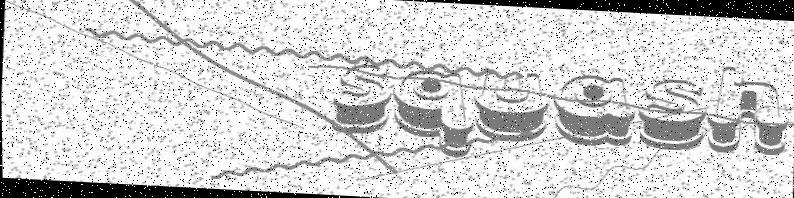a: (550, 72, 638, 147)
h: (704, 64, 792, 158)
q: (388, 67, 476, 159)
s: (634, 76, 707, 153), (330, 61, 394, 136)
u: (472, 68, 552, 144)
